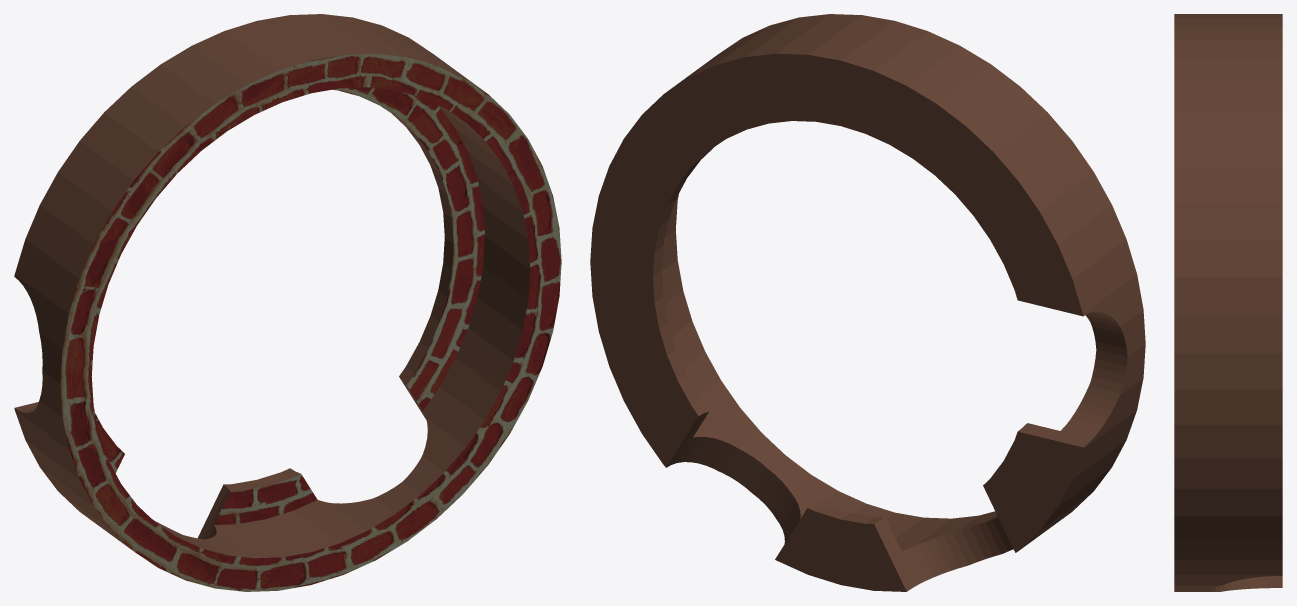
File: pool_061.obj
3 views of the same model, side by side, from view 1: azimuth 30°, elevation 25°; view 2: azimuth 150°, elevation 25°; view 3: azimuth 270°, elevation 25° (orthographic).
Size of the model in its own units: 16 by 16 by 3.
